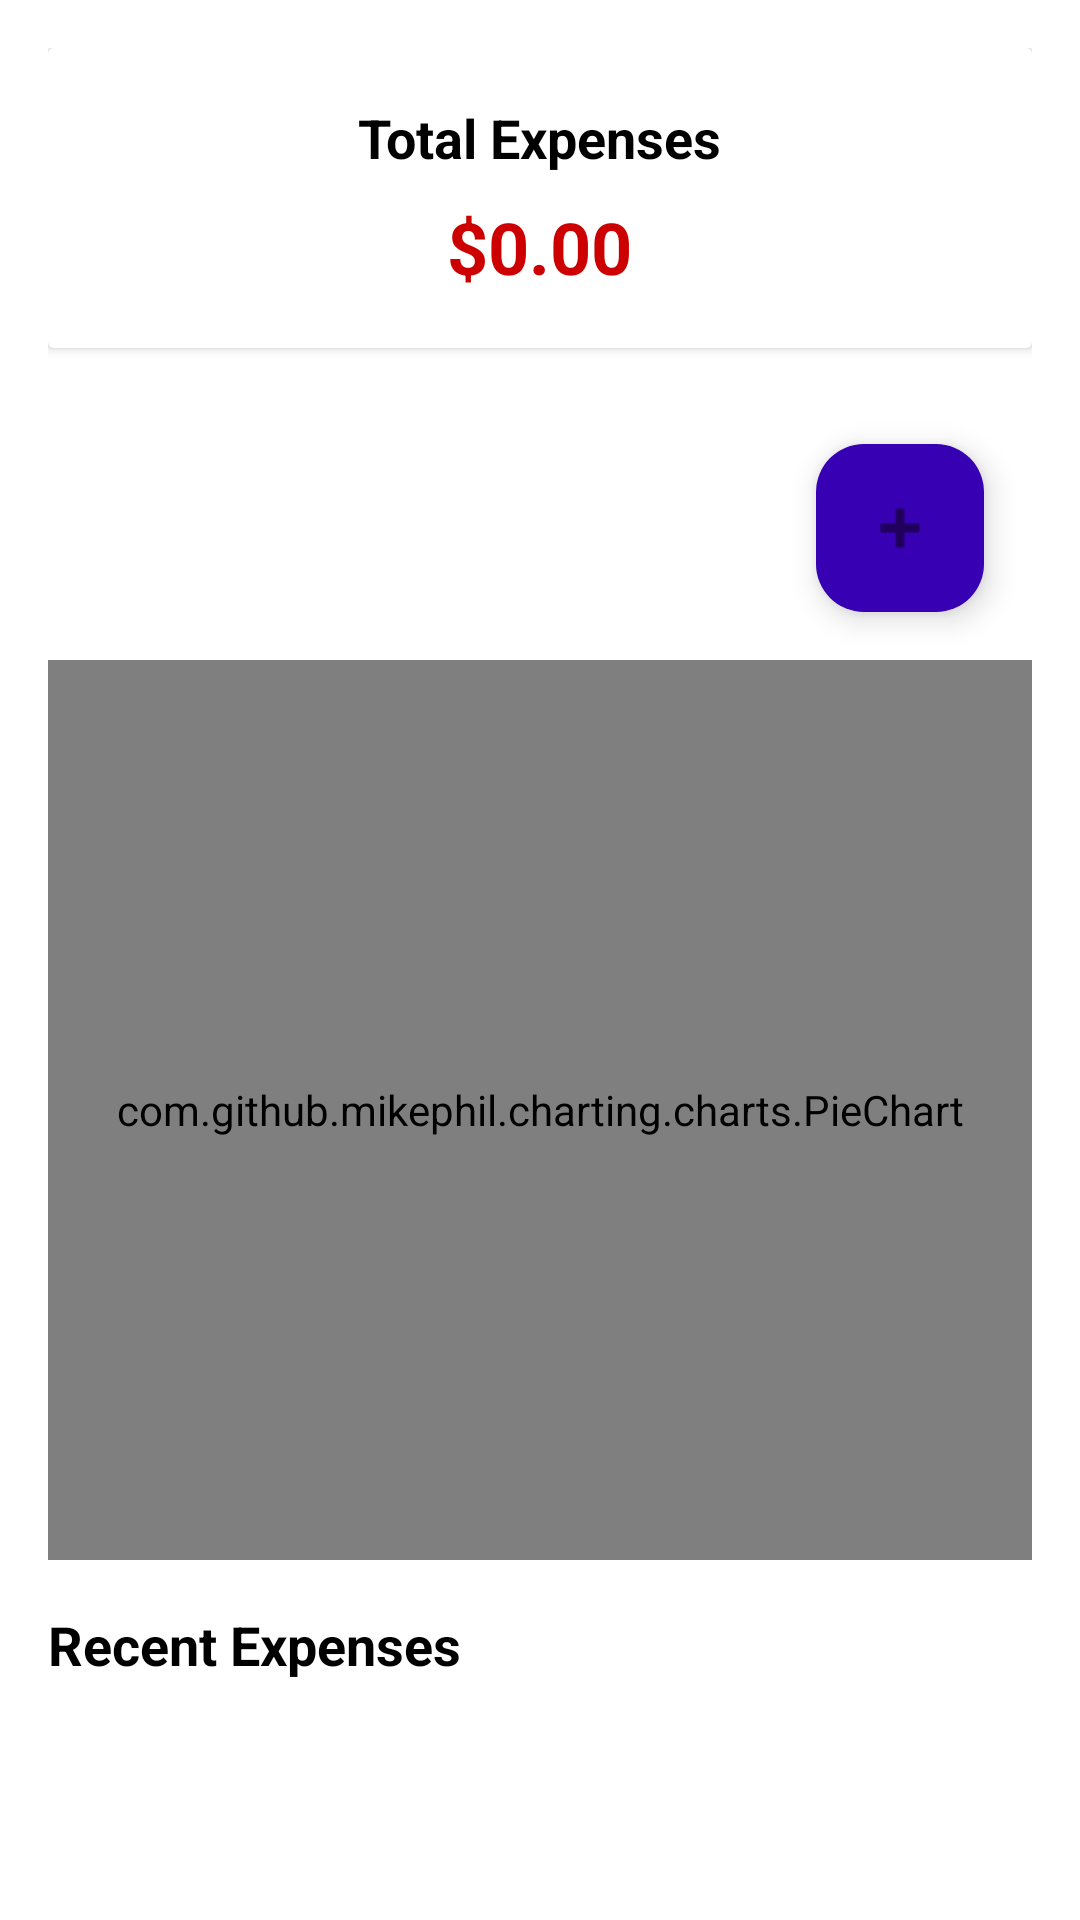

Named icons in this screenshot (1080w x 1920h) and their centers, [x,y]:
Add Expense: [900,528]
